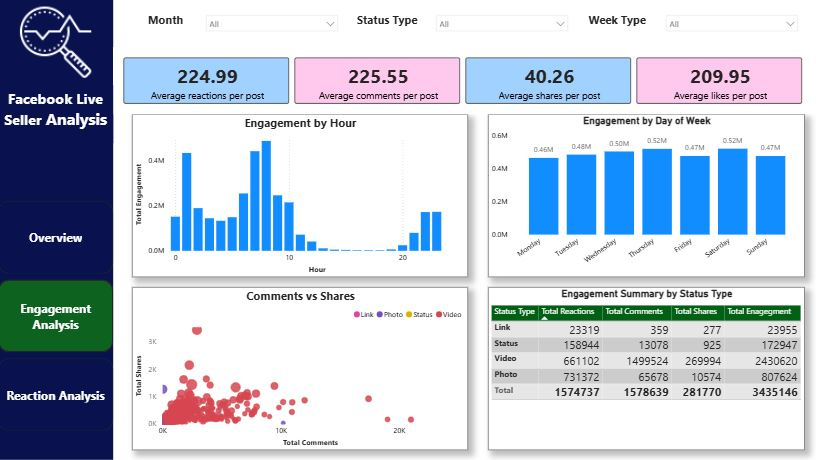

Layout of this report page (visuals, bound fields, positions):
{"tool":"powerbi","page":{"name":"Engagement Analysis","canvas":[1366,768],"ordinal":1},"visuals":[{"type":"shape","box":[0,0,192,768],"z":0},{"type":"clusteredColumnChart","title":"Engagement by Hour","fields":{"Y":["Live.Total Enagegment"],"Category":["Live.Hour"]},"box":[224,192,560,272],"z":6000},{"type":"clusteredColumnChart","title":"Engagement by Day of Week","fields":{"Category":["Live.Day"],"Y":["Live.Total Enagegment"]},"box":[816,192,528,272],"z":7000},{"type":"scatterChart","title":"Comments vs Shares","fields":{"X":["Sum(Live.num_comments)"],"Y":["Sum(Live.num_shares)"],"Series":["Live.status_type"],"Size":["Sum(Live.num_reactions)"],"Category":["Live.status_id"]},"box":[224,480,560,272],"z":8000},{"type":"pivotTable","title":"Engagement Summary by Status Type","fields":{"Rows":["Live.status_type"],"Values":["Sum(Live.num_reactions)","Sum(Live.num_comments)","Sum(Live.num_shares)","Live.Total Enagegment"]},"box":[816,480,528,272],"z":9000},{"type":"cardVisual","fields":{"Data":["Avg(Live.num_reactions)","Avg(Live.num_comments)","Avg(Live.num_shares)","Avg(Live.num_likes)"]},"box":[192,80,1168,112],"z":11000},{"type":"textbox","box":[0,144,192,96],"z":12000},{"type":"pageNavigator","box":[0,336,192,384],"z":13000},{"type":"image","box":[0,0,192,144],"z":14000},{"type":"slicer","fields":{"Values":["Live.status_type"]},"box":[720,16,240,48],"z":14001},{"type":"slicer","fields":{"Values":["Live.Week Type"]},"box":[1104,16,240,48],"z":14002},{"type":"textbox","box":[224,16,112,48],"z":14003},{"type":"textbox","box":[960,16,144,48],"z":14004},{"type":"textbox","box":[576,16,144,48],"z":14005},{"type":"slicer","fields":{"Values":["DateTable.Month"]},"box":[336,16,240,48],"z":14006}]}

Visuals, with their boxes in screenshot pixels (x1, y1, x2, y2), scaled from the page's 1366x768 canvas onto the 816x460 screenshot:
shape: {"x1": 0, "y1": 0, "x2": 115, "y2": 459}
"Engagement by Hour" clusteredColumnChart: {"x1": 134, "y1": 115, "x2": 468, "y2": 278}
"Engagement by Day of Week" clusteredColumnChart: {"x1": 487, "y1": 115, "x2": 803, "y2": 278}
"Comments vs Shares" scatterChart: {"x1": 134, "y1": 288, "x2": 468, "y2": 450}
"Engagement Summary by Status Type" pivotTable: {"x1": 487, "y1": 288, "x2": 803, "y2": 450}
cardVisual - Avg(Live.num_reactions) x Avg(Live.num_comments): {"x1": 115, "y1": 48, "x2": 812, "y2": 115}
textbox: {"x1": 0, "y1": 86, "x2": 115, "y2": 144}
pageNavigator: {"x1": 0, "y1": 201, "x2": 115, "y2": 431}
image: {"x1": 0, "y1": 0, "x2": 115, "y2": 86}
slicer - Live.status_type: {"x1": 430, "y1": 10, "x2": 573, "y2": 38}
slicer - Live.Week Type: {"x1": 659, "y1": 10, "x2": 803, "y2": 38}
textbox: {"x1": 134, "y1": 10, "x2": 201, "y2": 38}
textbox: {"x1": 573, "y1": 10, "x2": 659, "y2": 38}
textbox: {"x1": 344, "y1": 10, "x2": 430, "y2": 38}
slicer - DateTable.Month: {"x1": 201, "y1": 10, "x2": 344, "y2": 38}
